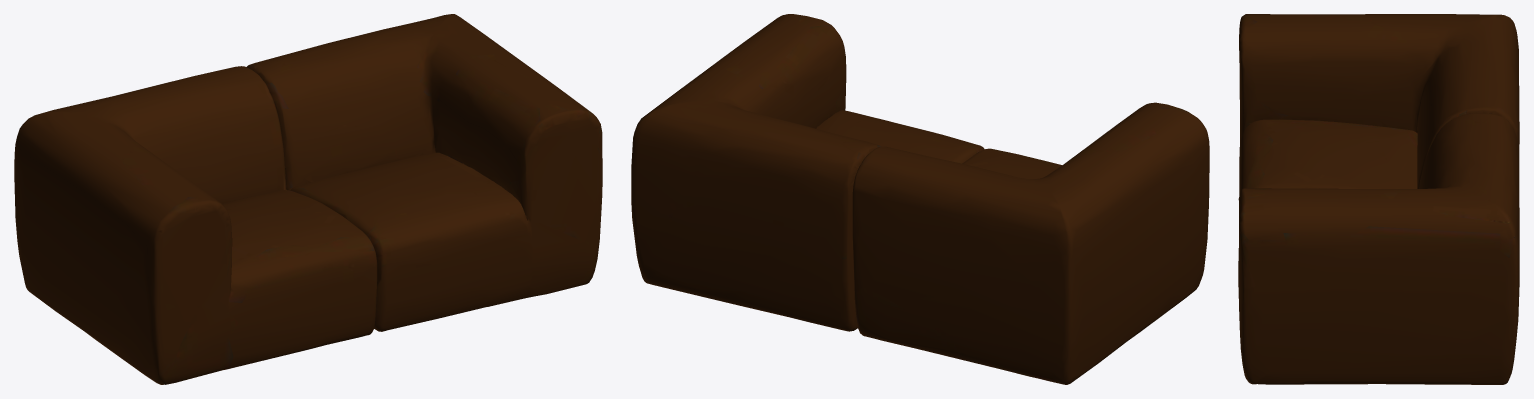
Rendered from cover-alhamn-ciemnobrazowy.glb.
3 renders of one model, left to right at view 1: azimuth 30°, elevation 25°; view 2: azimuth 150°, elevation 25°; view 3: azimuth 270°, elevation 25°, orthographic. The views are drawn at different scales.
Visible parts, largest first — view 1: ASY_ART_90591748_S01_NV01; view 2: ASY_ART_90591748_S01_NV01; view 3: ASY_ART_90591748_S01_NV01.
Part boxes in pixels (<box>): ASY_ART_90591748_S01_NV01: <box>14,14,602,384</box>; ASY_ART_90591748_S01_NV01: <box>631,14,1209,384</box>; ASY_ART_90591748_S01_NV01: <box>1238,14,1519,384</box>.
Bounding box in the file's own units: 1.78 × 0.7 × 0.9901.
1 material, 1 textured.
